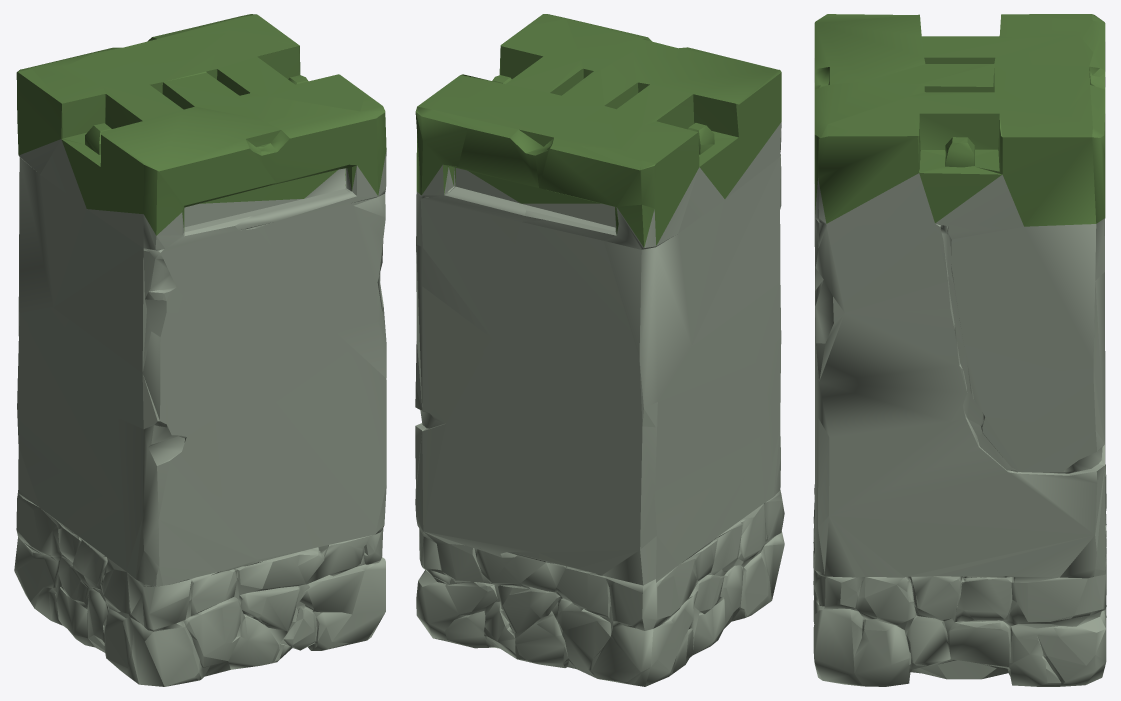
The model's file is cover_full_jungle_v1.glb.
3 renders of one model, left to right at view 1: azimuth 30°, elevation 25°; view 2: azimuth 150°, elevation 25°; view 3: azimuth 270°, elevation 25°, orthographic. The views are drawn at different scales.
Bounding box in the file's own units: 0.8866 × 1.85 × 0.8866.
